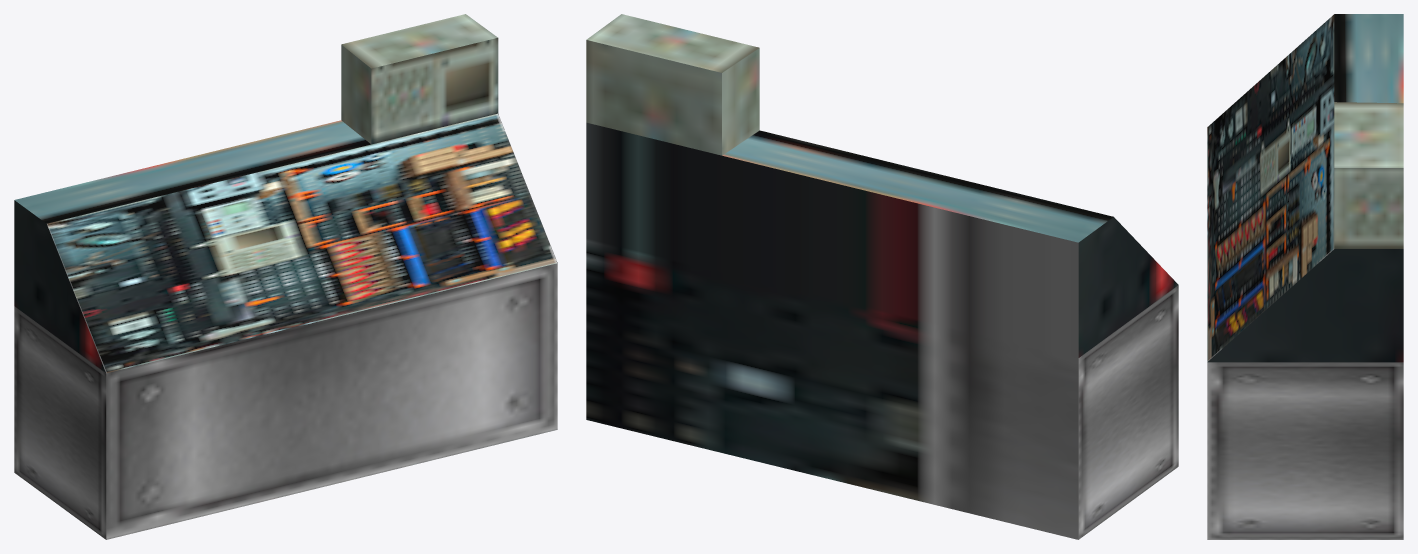
The model's file is Electronics.fbx.
3 renders of one model, left to right at view 1: azimuth 30°, elevation 25°; view 2: azimuth 150°, elevation 25°; view 3: azimuth 270°, elevation 25°, orthographic. The views are drawn at different scales.
Parts seen in each view (by area): view 1: RadioSetup; view 2: RadioSetup; view 3: RadioSetup.
Boxes of the visible parts, x1=… form: RadioSetup: x1=14, y1=14, x2=557, y2=539; RadioSetup: x1=586, y1=14, x2=1178, y2=539; RadioSetup: x1=1207, y1=14, x2=1403, y2=539.
Bounding box in the file's own units: 567 × 418 × 200.
